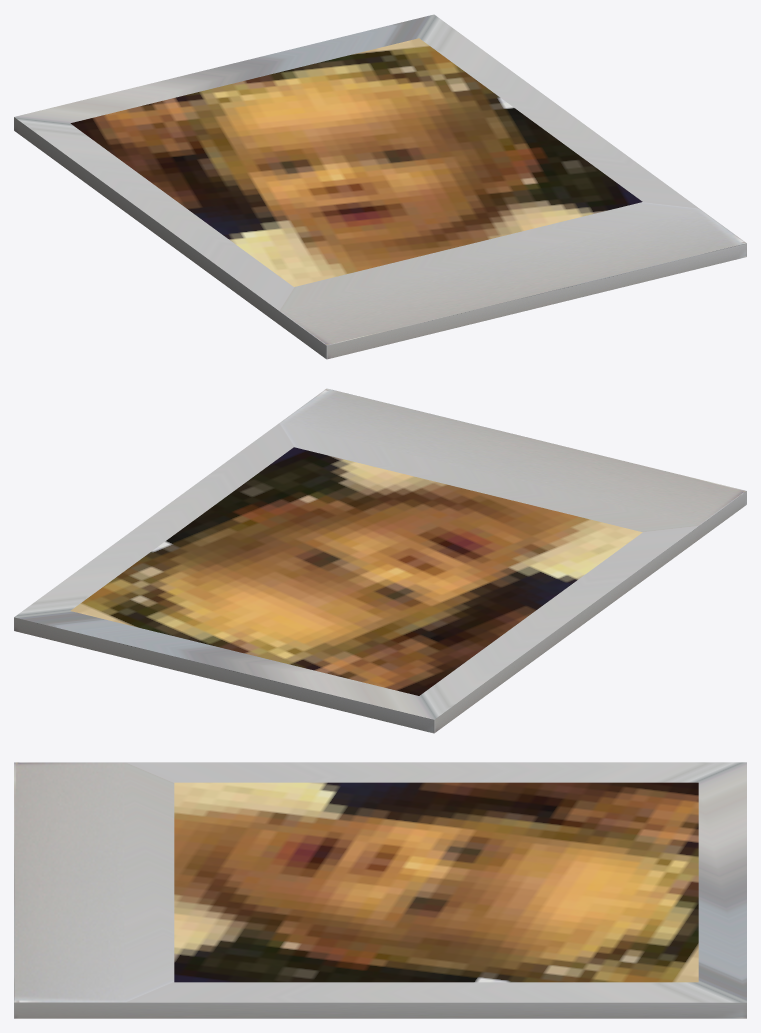
Rendered from p_frame4.FBX.
3 renders of one model, top to bottom at view 1: azimuth 30°, elevation 25°; view 2: azimuth 150°, elevation 25°; view 3: azimuth 270°, elevation 25°, orthographic. The views are drawn at different scales.
Visible parts, largest first — view 1: Object001, Box001; view 2: Object001, Box001; view 3: Object001, Box001.
Part boxes in pixels (<box>): Object001: <box>70,38,642,286</box>; Box001: <box>14,14,746,359</box>; Object001: <box>70,447,642,695</box>; Box001: <box>14,388,746,733</box>; Object001: <box>174,782,698,982</box>; Box001: <box>14,762,746,1018</box>.
Size of the model in its own units: 32.55 by 1.01 by 41.95.
Materials: 2 (2 with a texture image).
